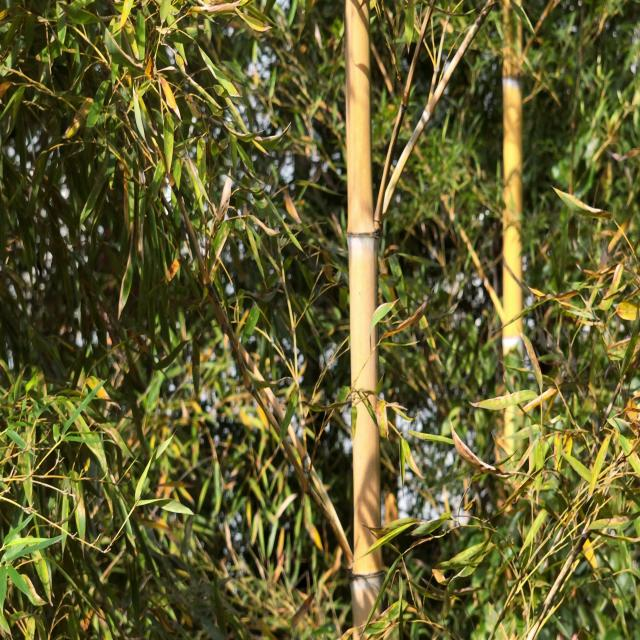Bamboo-shoots: (346, 0, 383, 640)
